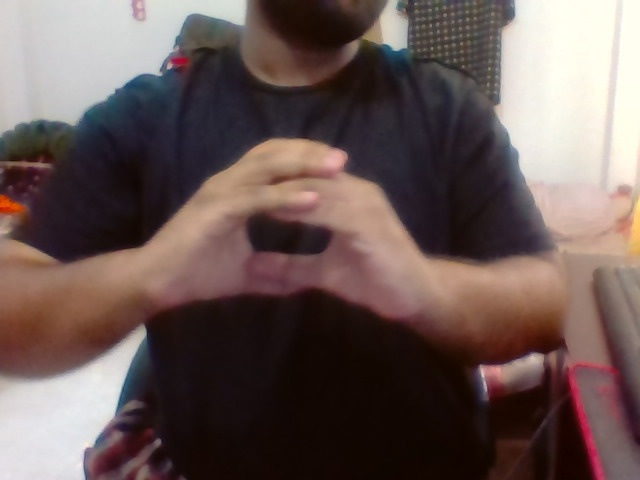O: (194, 114, 398, 321)
